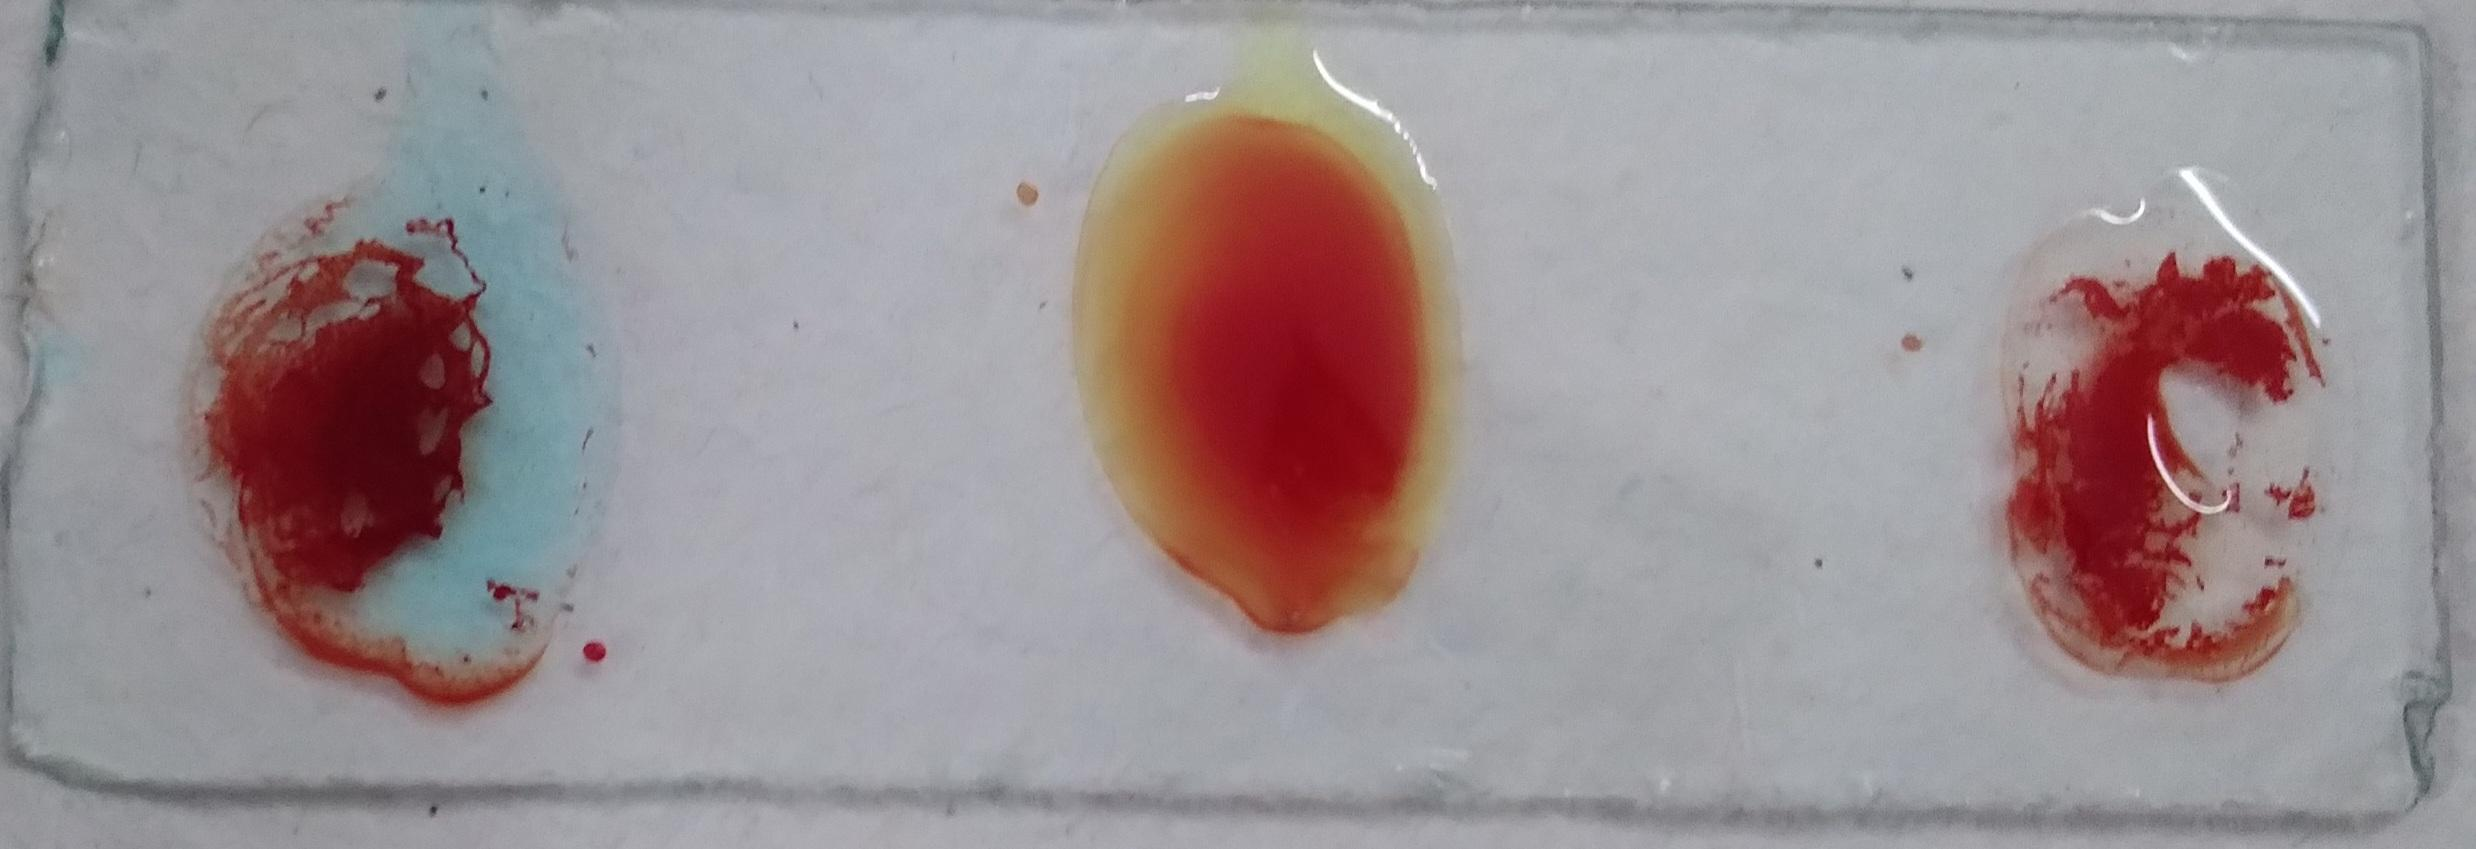A: (1885, 128, 2302, 729)
D: (136, 161, 502, 690)
